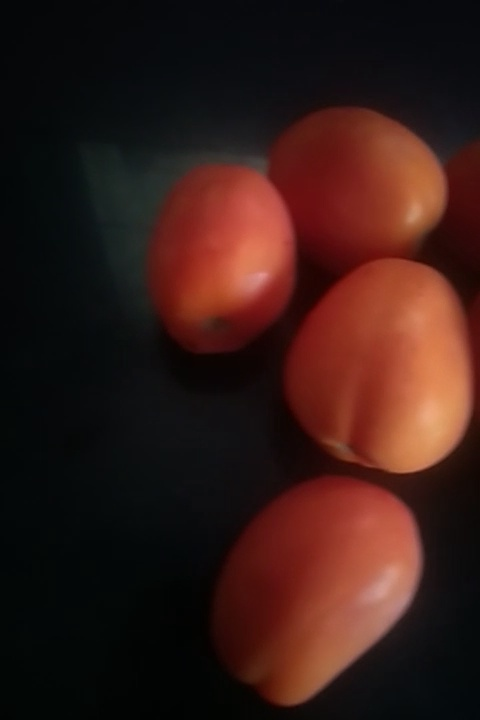tomato: (194, 466, 425, 693), (282, 251, 479, 484), (256, 109, 446, 267), (144, 164, 291, 342)
